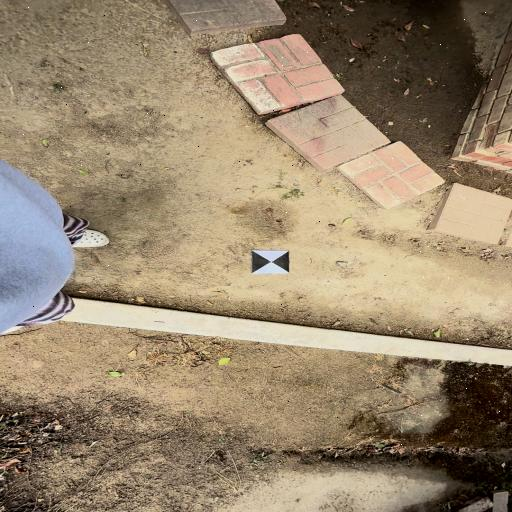target: (252, 250, 289, 274)
